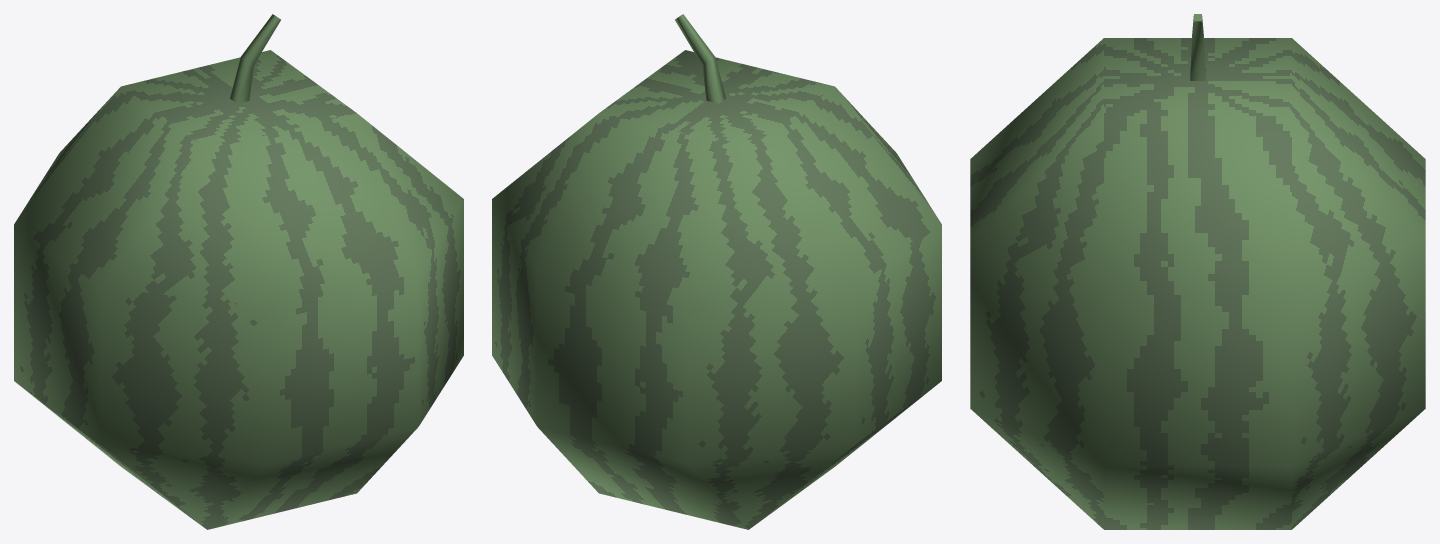
The model's file is 02b5_Watermelon.glb.
The picture shows the model from 3 angles, left to right: view 1: azimuth 30°, elevation 25°; view 2: azimuth 150°, elevation 25°; view 3: azimuth 270°, elevation 25°; orthographic projection. The views are drawn at different scales.
Visible parts, largest first — view 1: part_0; view 2: part_0; view 3: part_0.
Part boxes in pixels (left/top/right/bottom): part_0: left=14, top=14, right=463, bottom=529; part_0: left=492, top=14, right=941, bottom=529; part_0: left=970, top=14, right=1425, bottom=529.
Size of the model in its own units: 0.2587 by 0.3103 by 0.2587.
Materials: 1 (1 with a texture image).
